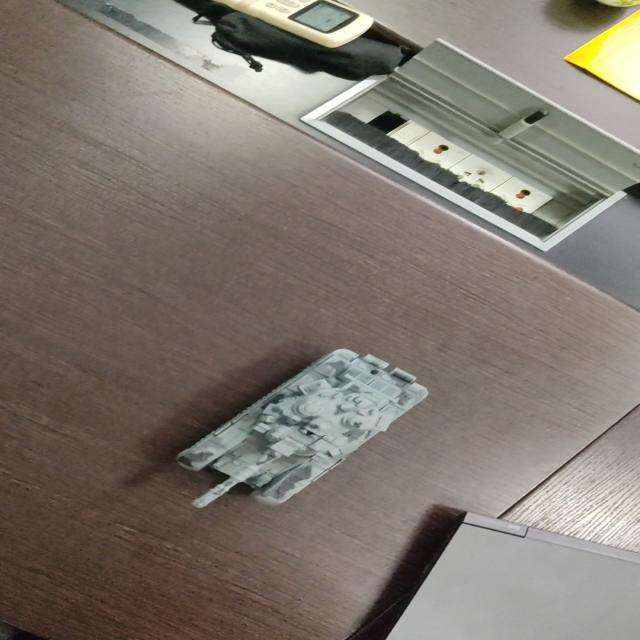tank: (182, 348, 434, 508)
